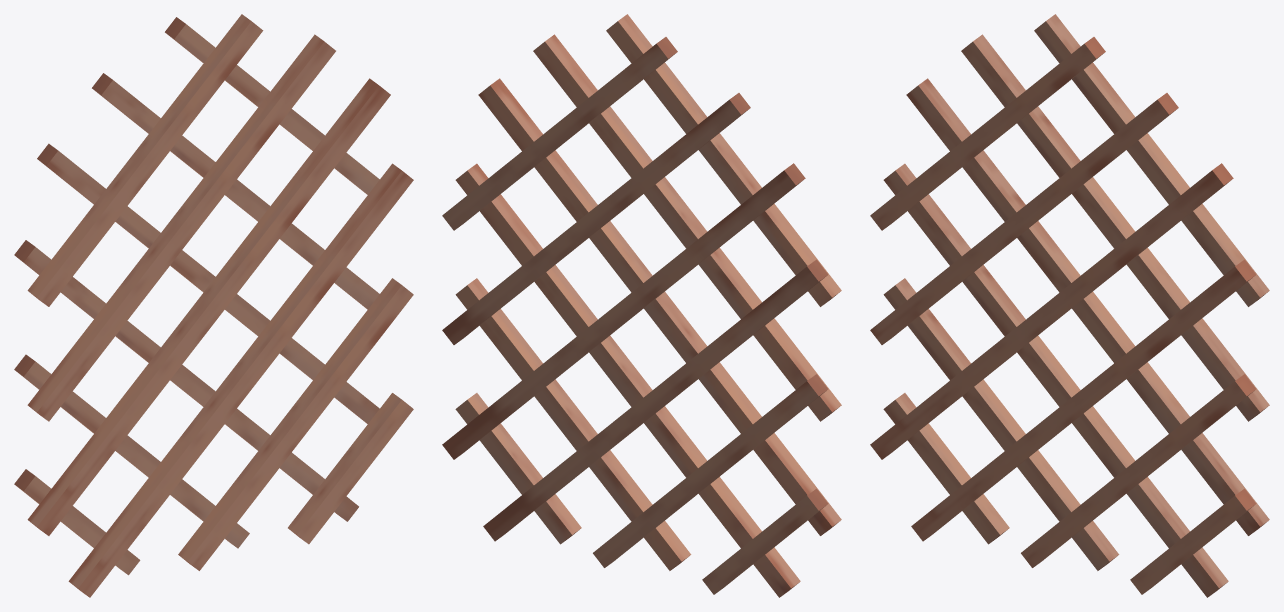
The model's file is wall2_upper_window_window.fbx.
The picture shows the model from 3 angles, left to right: view 1: azimuth 30°, elevation 25°; view 2: azimuth 150°, elevation 25°; view 3: azimuth 330°, elevation 25°; orthographic projection.
Parts seen in each view (by area): view 1: wall2_upper_window_window; view 2: wall2_upper_window_window; view 3: wall2_upper_window_window.
Part boxes in pixels (x1,y1,x2,y2): wall2_upper_window_window: (14, 14, 413, 597); wall2_upper_window_window: (442, 14, 841, 597); wall2_upper_window_window: (870, 14, 1269, 597).
Size of the model in its own units: 2.92 by 3.98 by 0.31.
